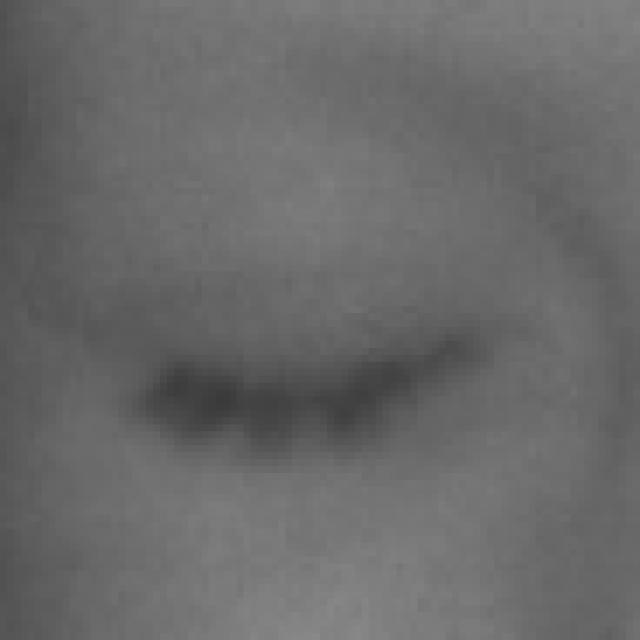Eyeclosed: (145, 217, 498, 568)
